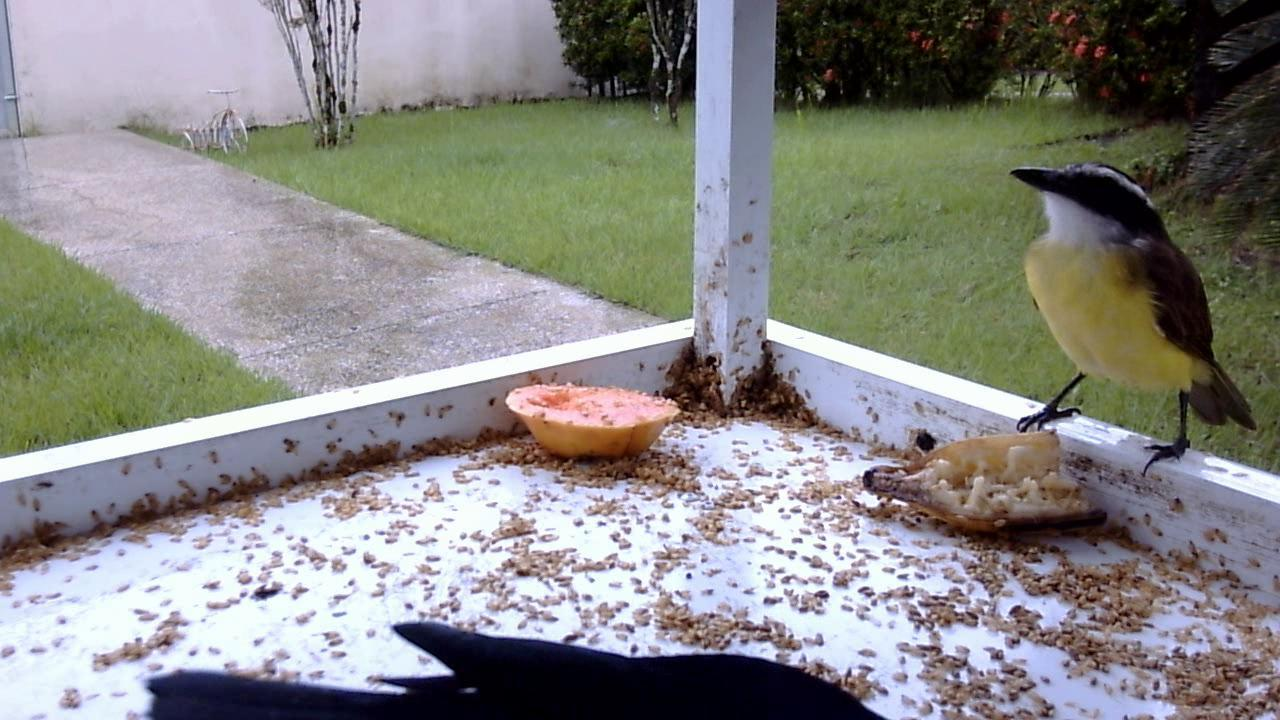bem_te_vi: (994, 151, 1267, 493)
chupim: (152, 587, 944, 713)
